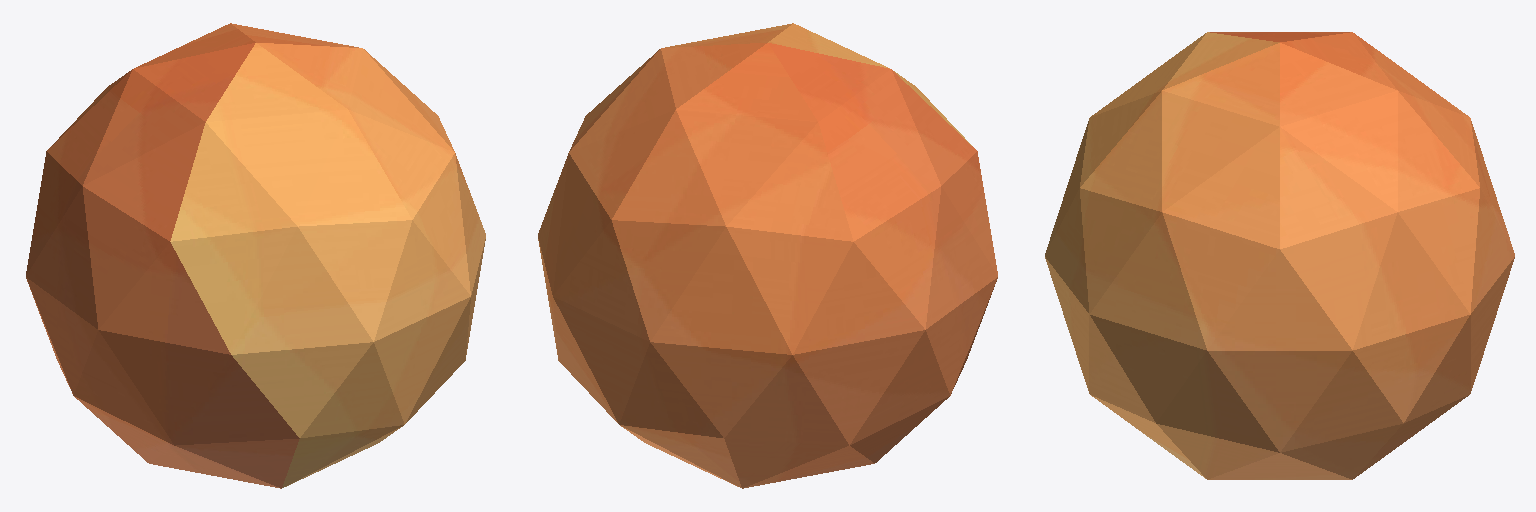
The picture shows the model from 3 angles: view 1: azimuth 30°, elevation 25°; view 2: azimuth 150°, elevation 25°; view 3: azimuth 270°, elevation 25°; orthographic projection.
Parts seen in each view (by area): view 1: Icosphere; view 2: Icosphere; view 3: Icosphere.
Boxes of the visible parts, box(x1,y1,x2,y2) form: Icosphere: box(26, 23, 485, 488); Icosphere: box(538, 23, 997, 488); Icosphere: box(1045, 32, 1514, 479).
Size of the model in its own units: 208 by 219 by 219.
1 materials, 1 textured.